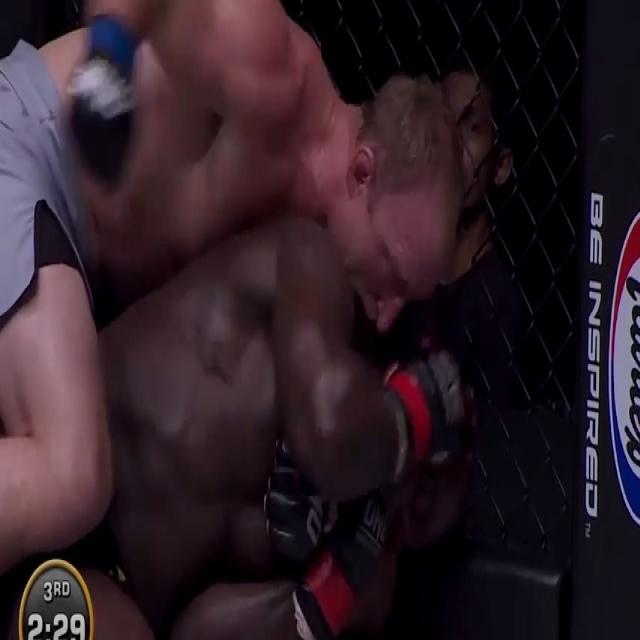fight: (0, 0, 503, 639)
